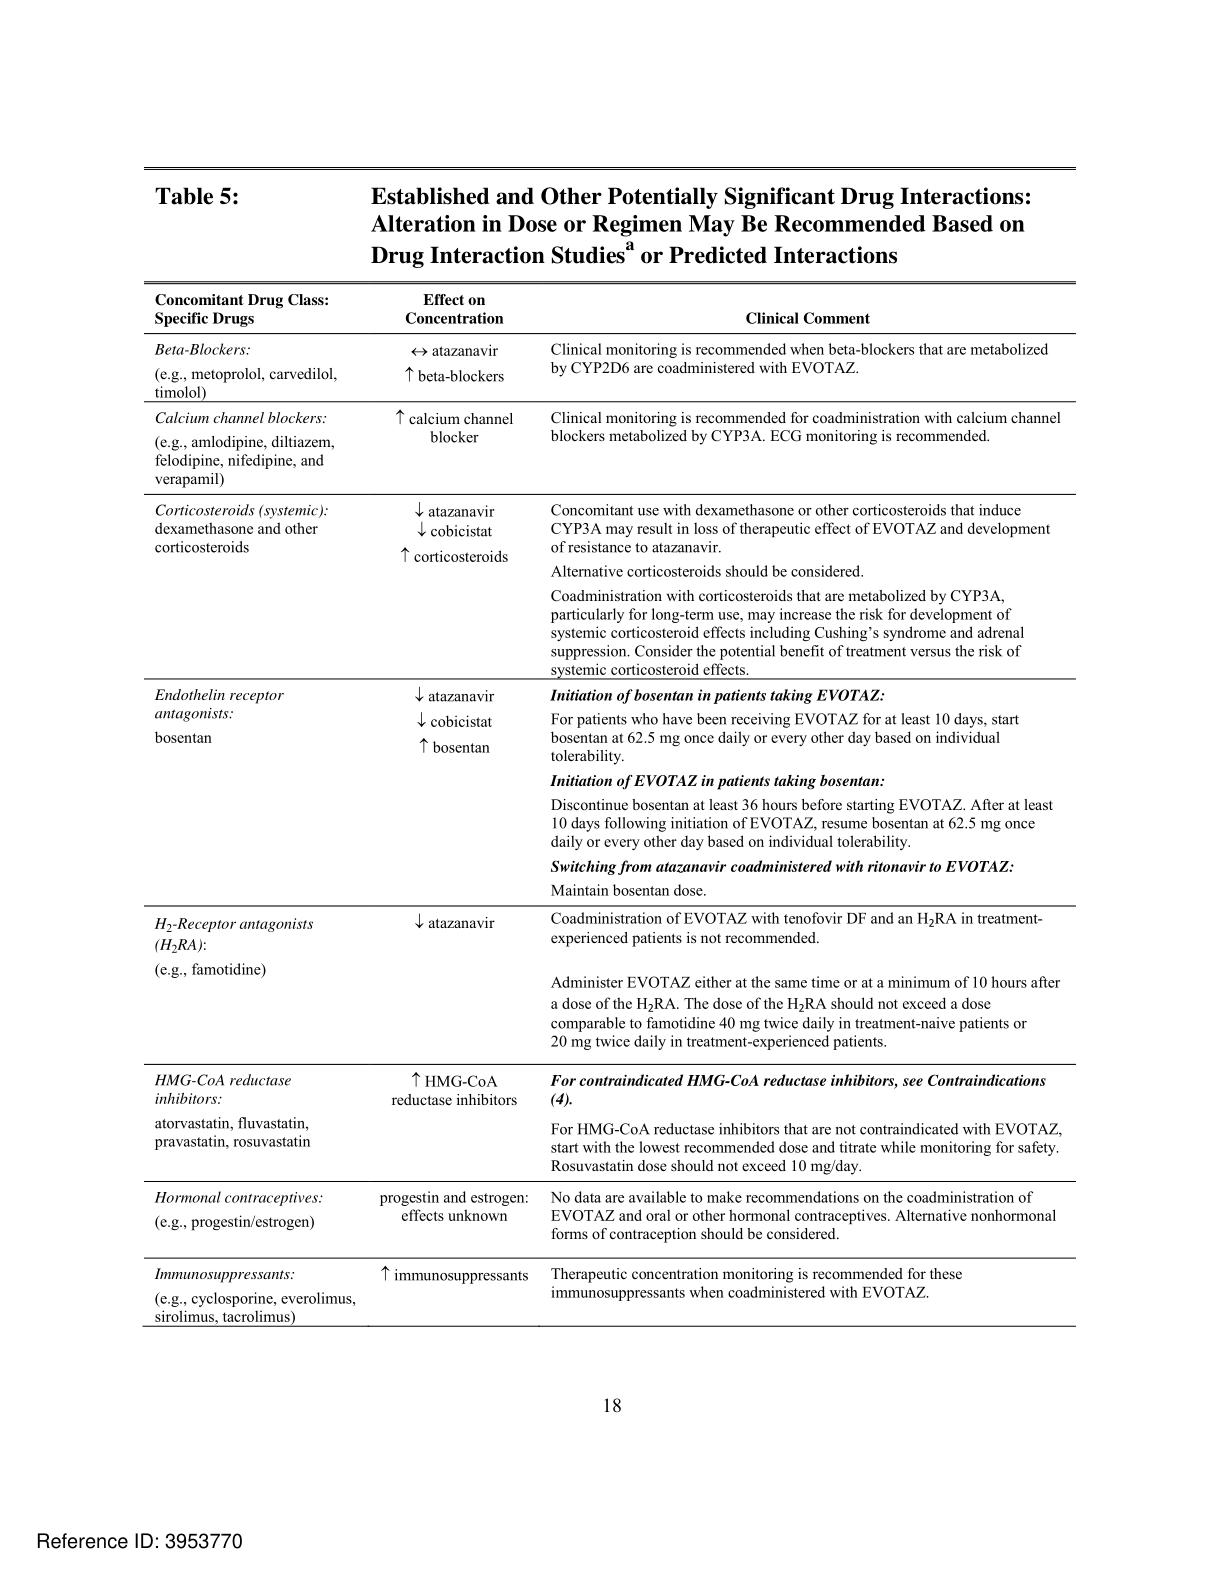partial_lined: (145, 280, 1077, 1329)
